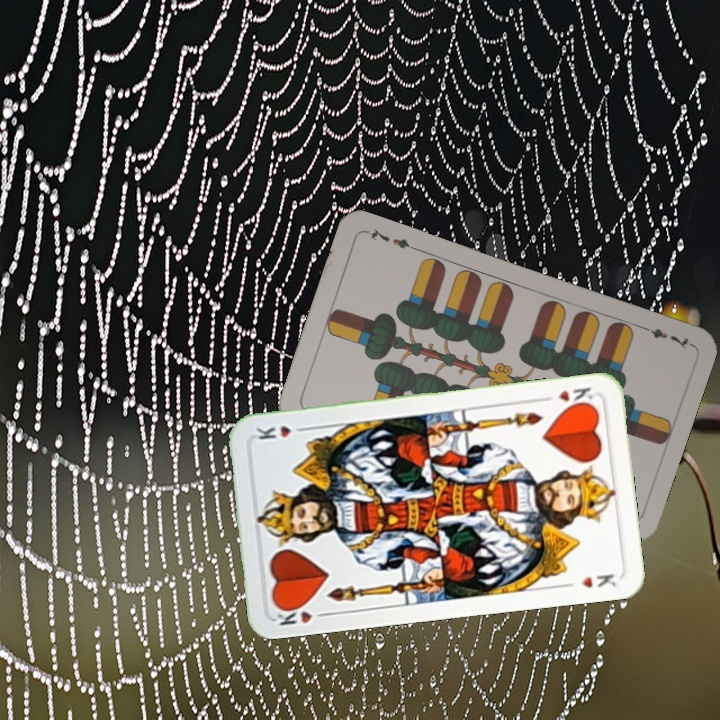E7: (636, 321, 691, 352)
HK: (273, 600, 331, 629), (539, 382, 596, 410)
